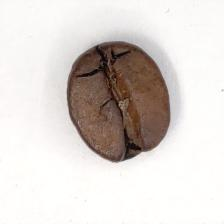NG: (95, 53, 144, 151)
